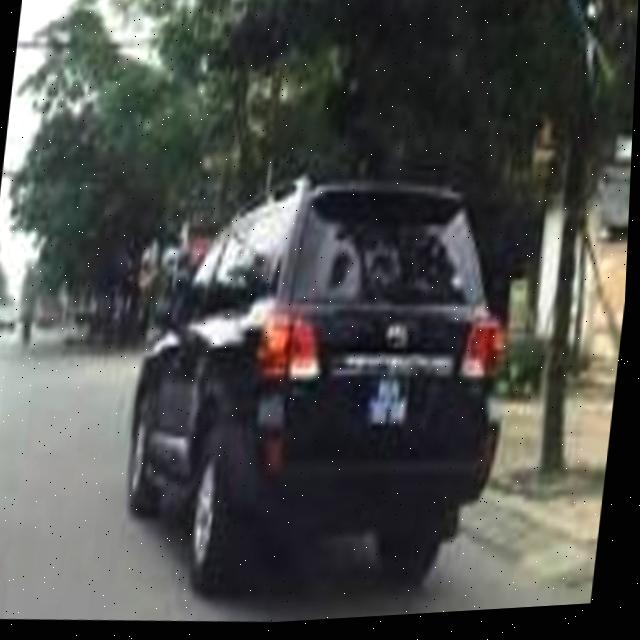car: (103, 153, 530, 618)
plate: (349, 364, 418, 437)
